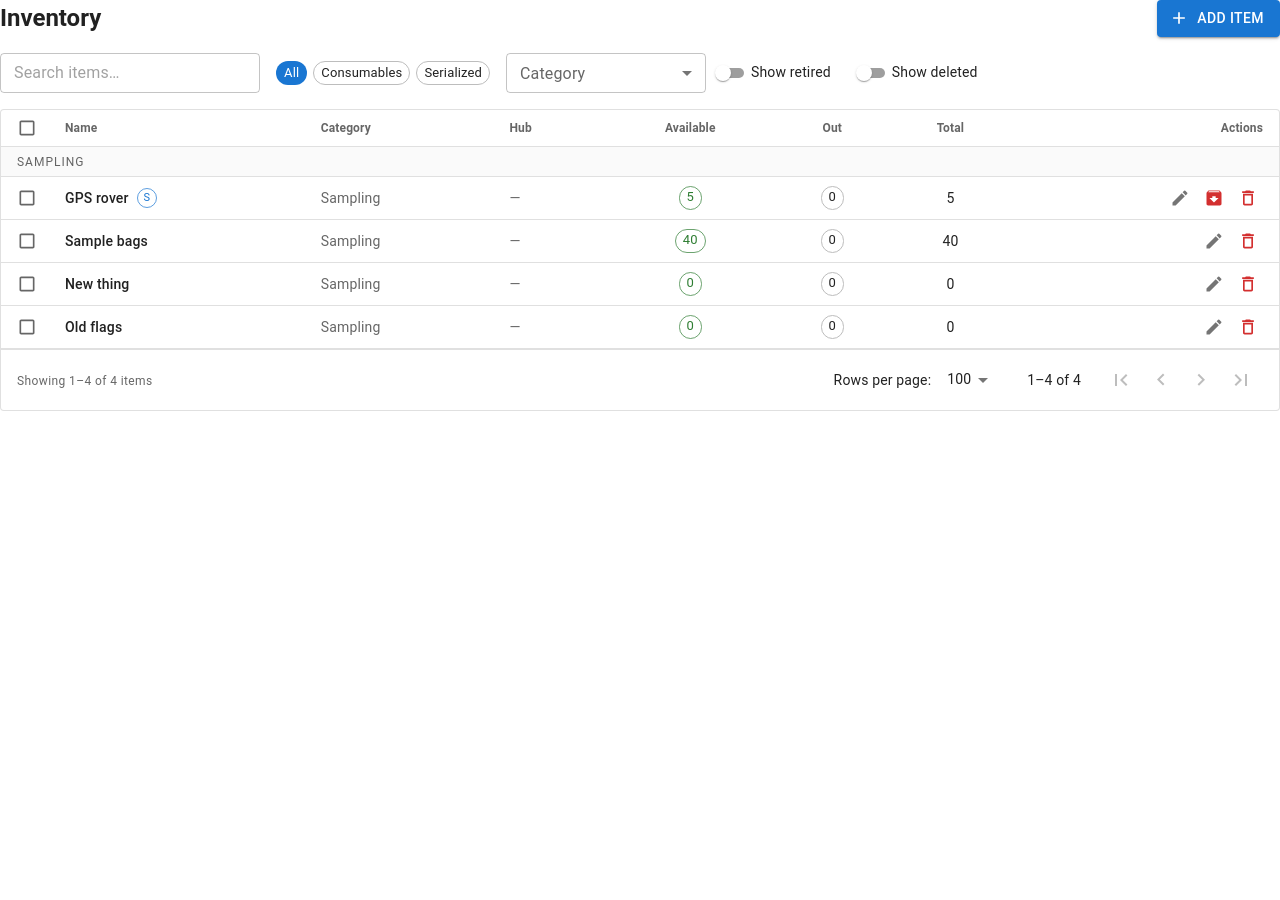
Test case: PR-6 · Inventory: Retire and Units are for serialized gear › a consumable drawer has no Retire and no Units tab; a serialized drawer has both
Expected: the text "GPS rover" is shown, [65,188,129,208]
Step 1. Click the text "Sample bags" → click(106, 241), box [65,231,148,251]
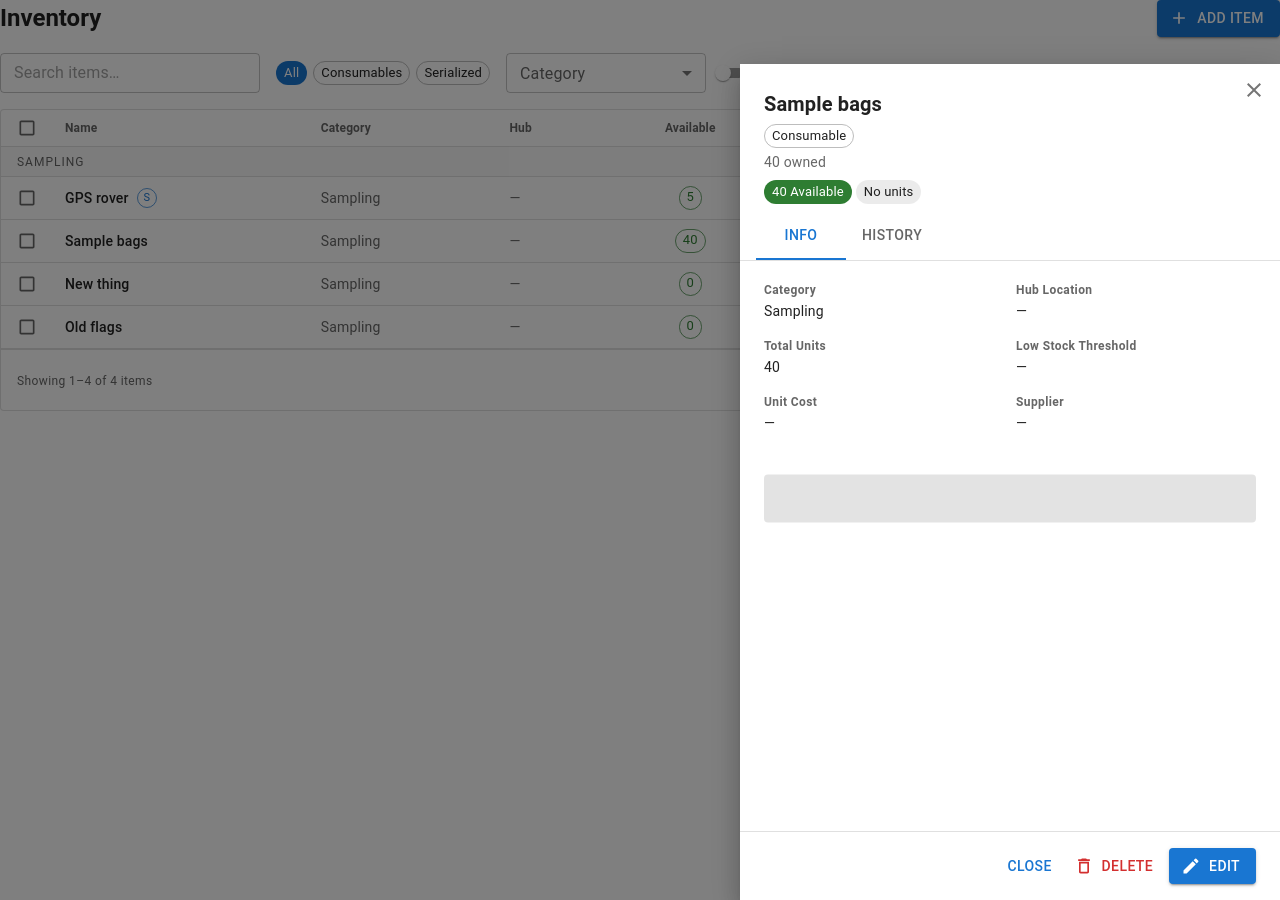
Expected: the tab "Info" is shown, [756,212,846,260]
Expected: the tab "History" is shown
Expected: the button "Delete" is shown, [1070,848,1161,884]
Step 2. Click the tab "History" → click(892, 236), box [846,212,938,260]
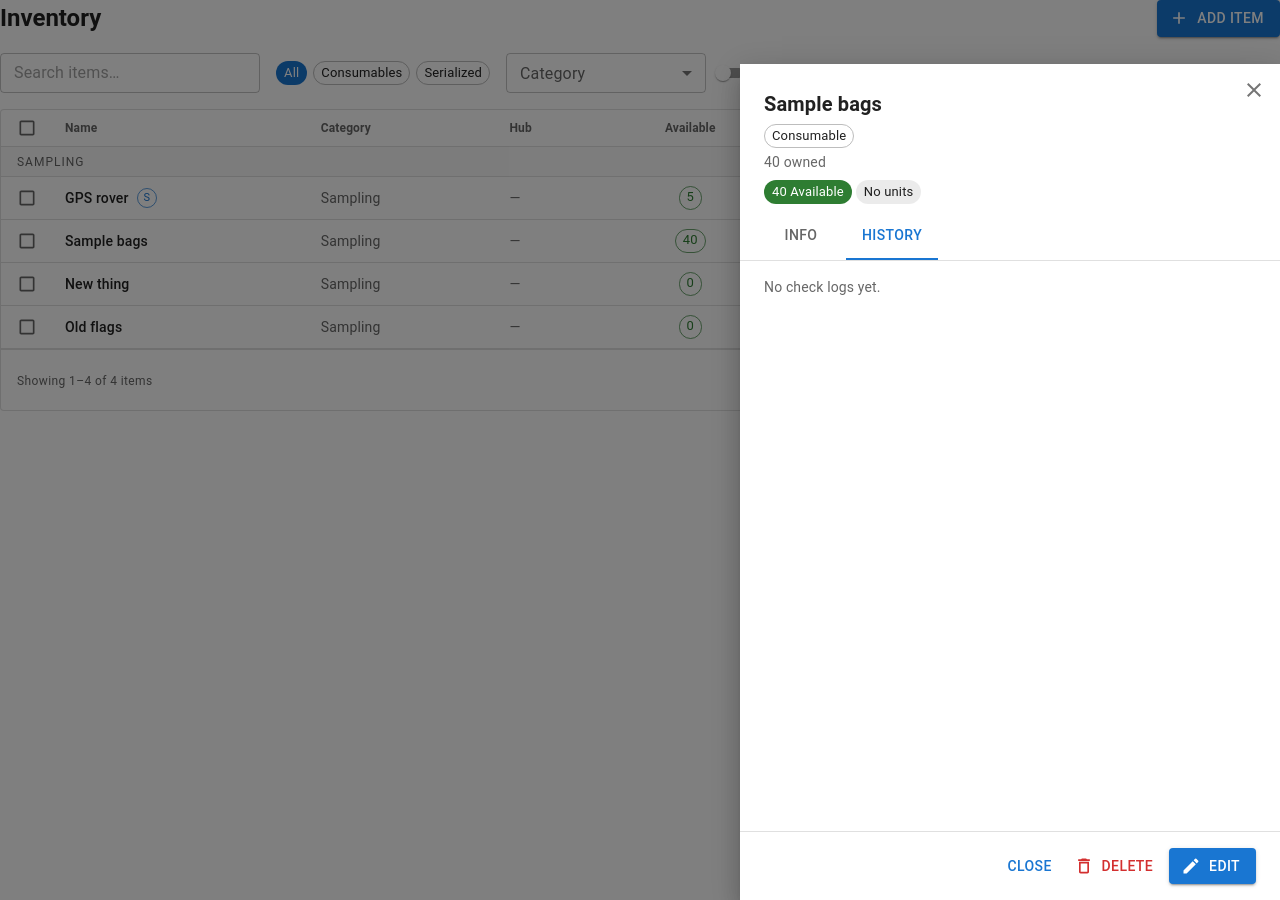
Expected: the text "No check logs yet." is shown, [764,279,881,295]
